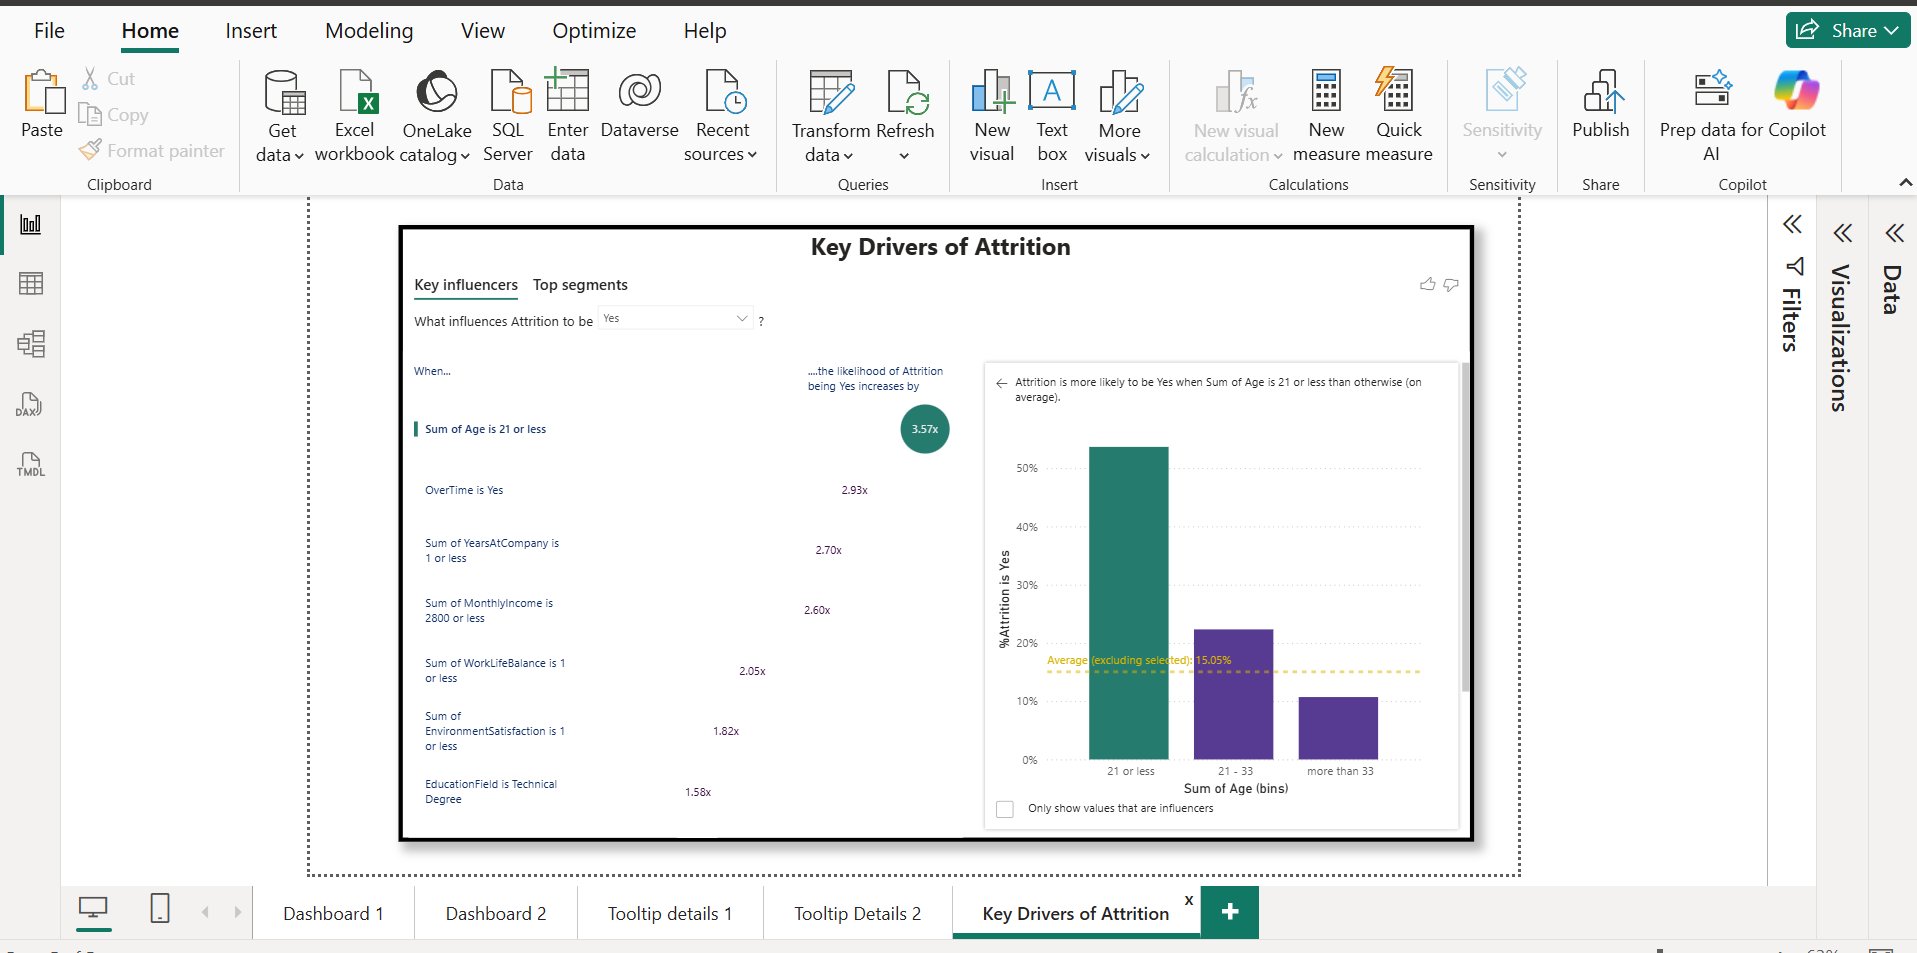

The page's visual inventory and layout, read from the dashboard file:
{"tool":"powerbi","page":{"name":"Key Drivers of Attrition","canvas":[1280,720],"ordinal":4},"visuals":[{"type":"keyDriversVisual","title":"Key Drivers of Attrition","fields":{"Target":["HR_Data.Attrition"],"ExplainBy":["Sum(HR_Data.JobSatisfaction)","Sum(HR_Data.MonthlyIncome)","HR_Data.OverTime","Sum(HR_Data.WorkLifeBalance)","Sum(HR_Data.Age)","HR_Data.Department","Sum(HR_Data.YearsAtCompany)","Sum(HR_Data.DistanceFromHome)","Sum(HR_Data.EnvironmentSatisfaction)","HR_Data.EducationField"]},"box":[93.8,31.8,1140.5,653.7],"z":0}]}

Visuals, with their boxes on the page's 1280x720 design canvas (x1, y1, x2, y2). These are canvas units, not pixel positions in the 1917x953 screenshot, which may show the page scaled, cropped or inside an application window:
"Key Drivers of Attrition" keyDriversVisual: detection(94, 32, 1234, 686)
